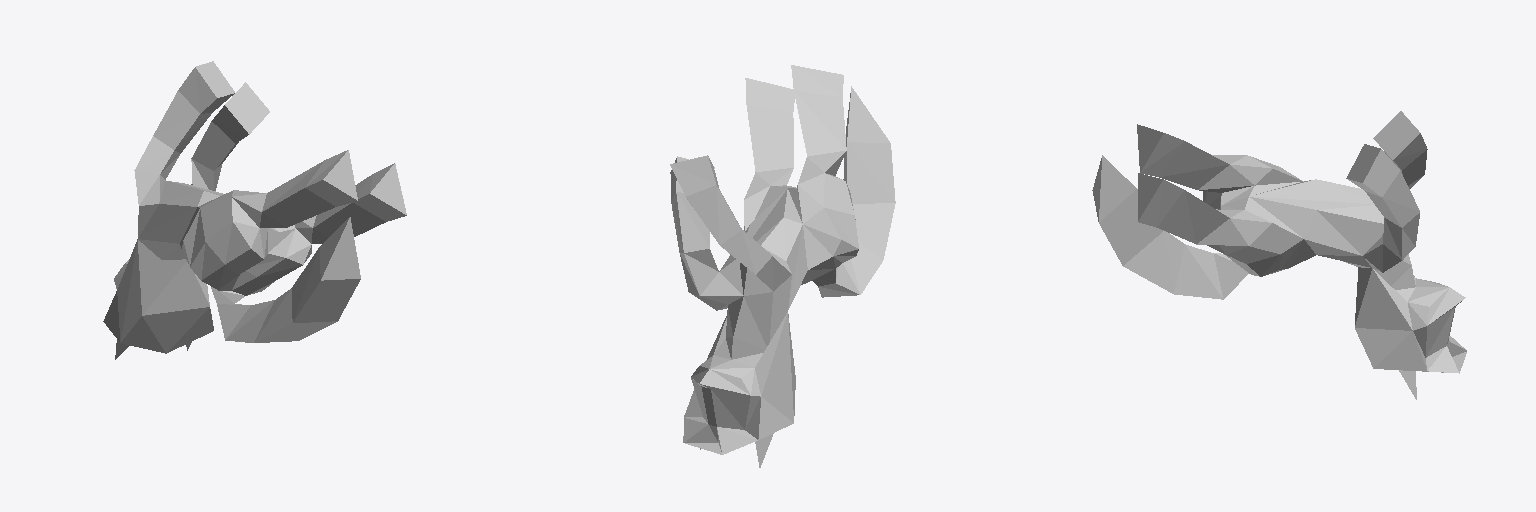
The model's file is PONY_000012.obj.
The picture shows the model from 3 angles: view 1: azimuth 30°, elevation 25°; view 2: azimuth 150°, elevation 25°; view 3: azimuth 270°, elevation 25°; orthographic projection.
Parts seen in each view (by area): view 1: pony; view 2: pony; view 3: pony.
Boxes of the visible parts, box(x1,y1,x2,y2) form: pony: box(103, 61, 406, 359); pony: box(670, 65, 895, 467); pony: box(1092, 111, 1466, 399).
Bounding box in the file's own units: 5 × 8.57 × 10.04.